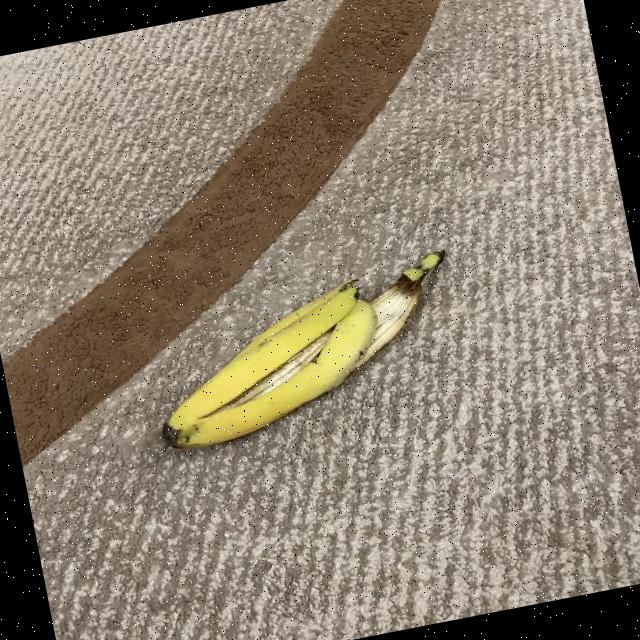banana-peel: (136, 247, 473, 455)
